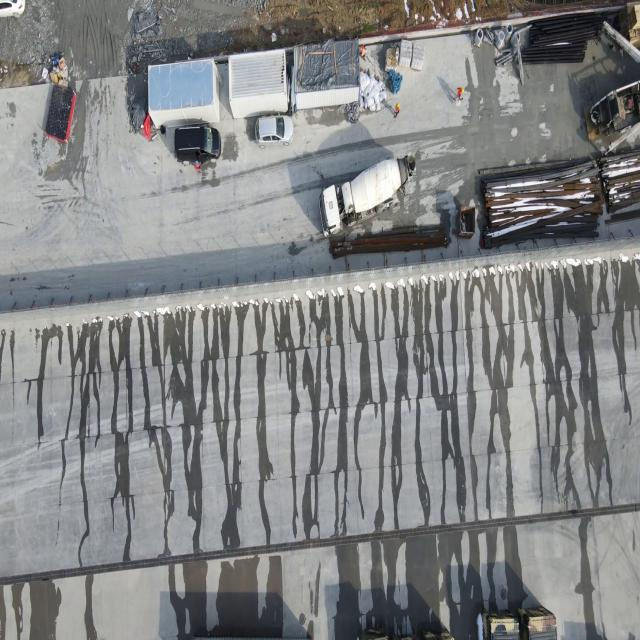p3rson: (452, 86, 464, 102), (358, 44, 366, 62), (393, 101, 400, 119), (194, 159, 201, 172)
